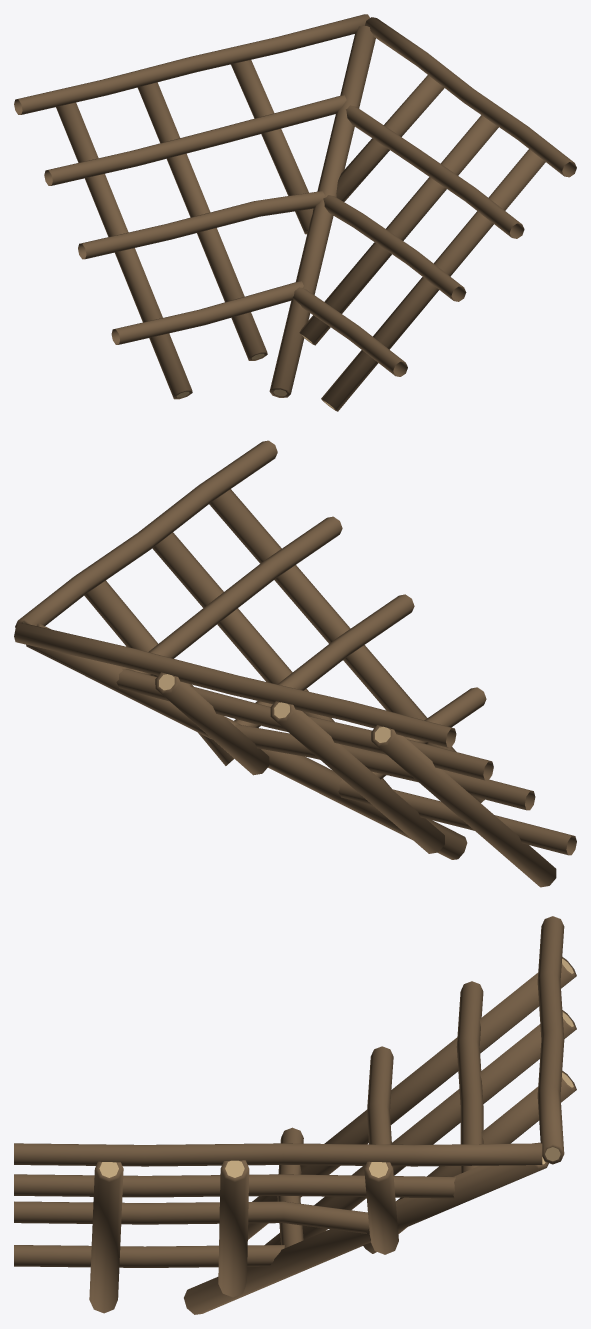
The model's file is rpgpp_ag_roof_support_01_6x3x3_corner_a.fbx.
3 views of the same model, one above another, from view 1: azimuth 30°, elevation 25°; view 2: azimuth 150°, elevation 25°; view 3: azimuth 270°, elevation 25° (orthographic). The views are drawn at different scales.
Visible parts, largest first — view 1: rpgpp_ag_roof_support_01_6x3x3_corner_a; view 2: rpgpp_ag_roof_support_01_6x3x3_corner_a; view 3: rpgpp_ag_roof_support_01_6x3x3_corner_a.
Part boxes in pixels (box(x1,y1,x2,y2)): rpgpp_ag_roof_support_01_6x3x3_corner_a: box(14, 14, 576, 411); rpgpp_ag_roof_support_01_6x3x3_corner_a: box(14, 440, 576, 887); rpgpp_ag_roof_support_01_6x3x3_corner_a: box(14, 916, 576, 1314).
Size of the model in its own units: 6.31 by 3.85 by 6.27.
